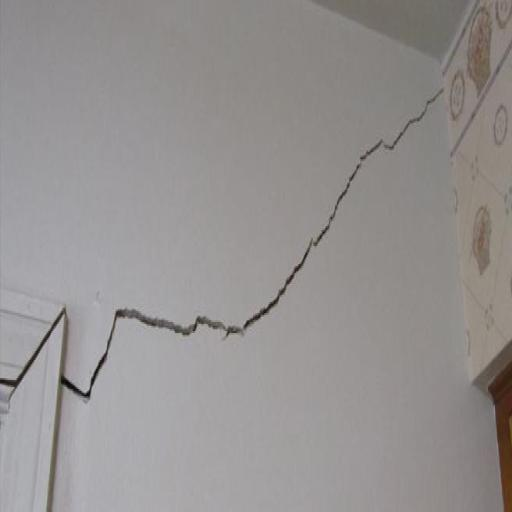spalling: (63, 82, 445, 419)
